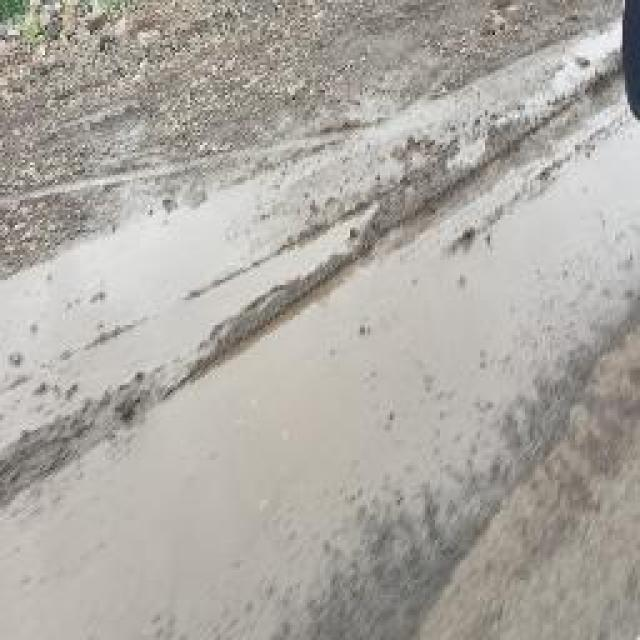waterlogging: (20, 241, 539, 626)
